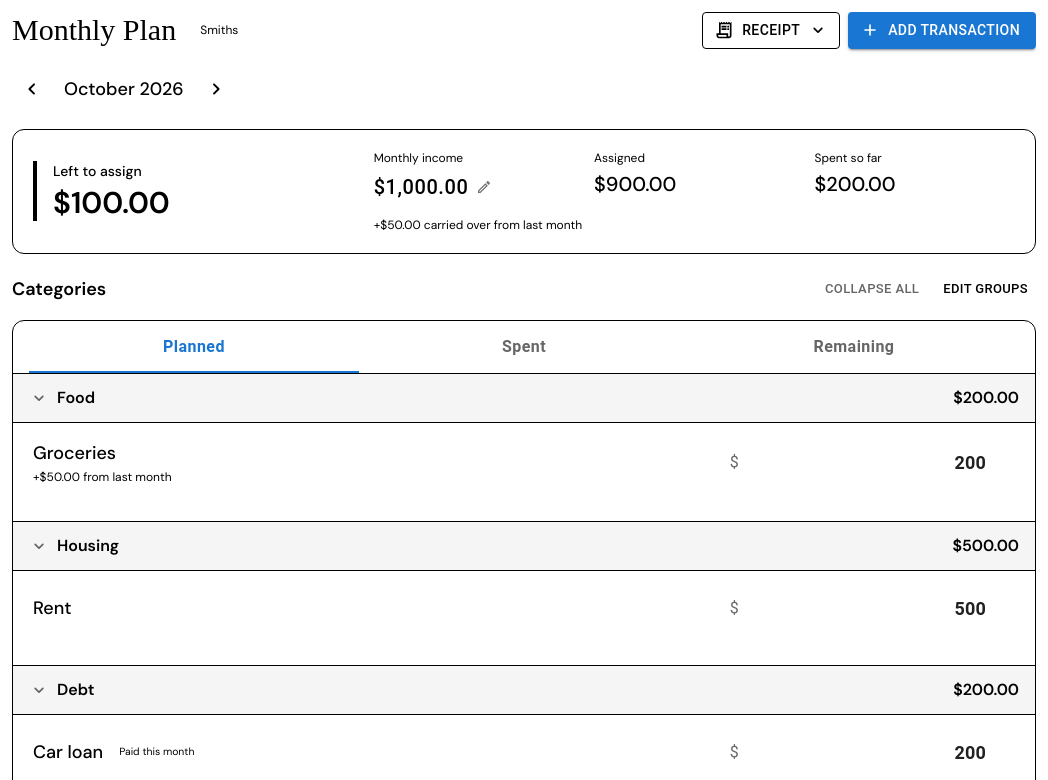
category tabs show one amount at a time with spending progress
The width and height of the screenshot is (1048, 780).
Expected: the number of number fields is 3, [747, 441, 1015, 483]; [747, 587, 1015, 629]; [747, 731, 1015, 773]
Click the tab "Spent": click(524, 347) [359, 321, 689, 373]
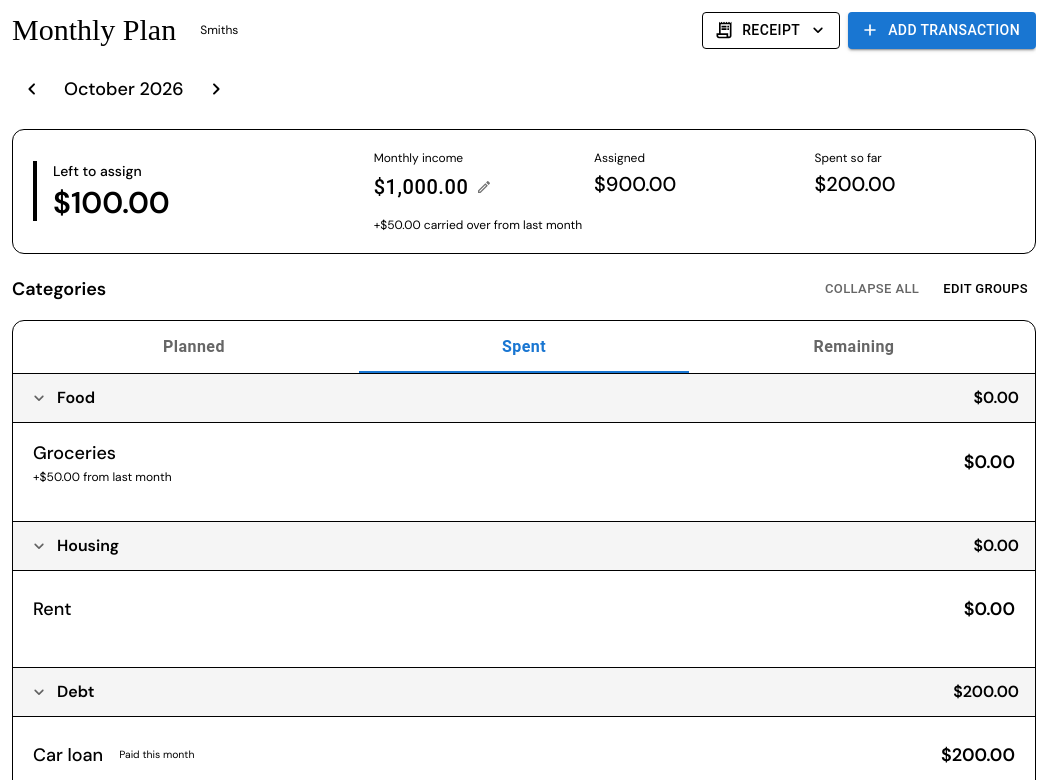
Expected: the text named "Car loan spent amount" reads "$200.00", [941, 743, 1015, 767]
Now the text named "Groceries spent amount" reads "$0.00", box [964, 450, 1015, 474]
Click the tab "Remaining": click(854, 347) [689, 321, 1019, 373]
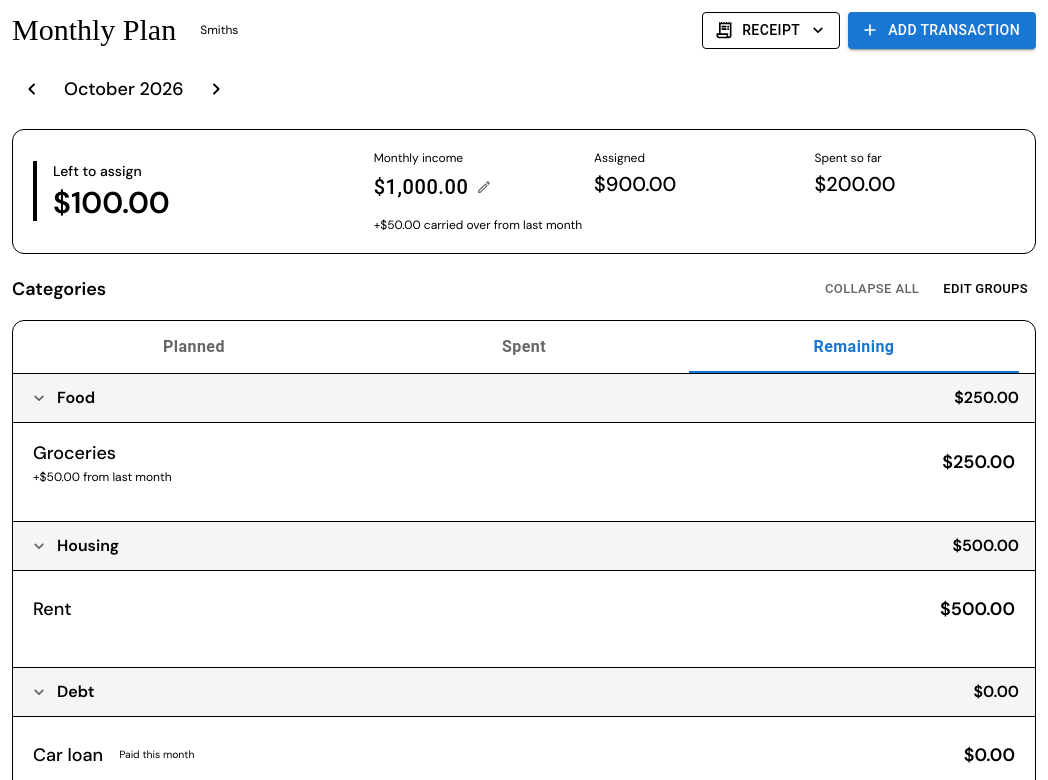
Now the text named "Groceries remaining amount" reads "$250.00", box [942, 450, 1015, 474]
Now the text named "Car loan remaining amount" reads "$0.00", box [964, 743, 1015, 767]
